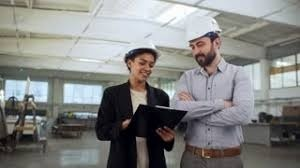helmet: (176, 11, 232, 43), (117, 32, 166, 67)
person with partial safety: (168, 7, 259, 167), (90, 33, 178, 167)
